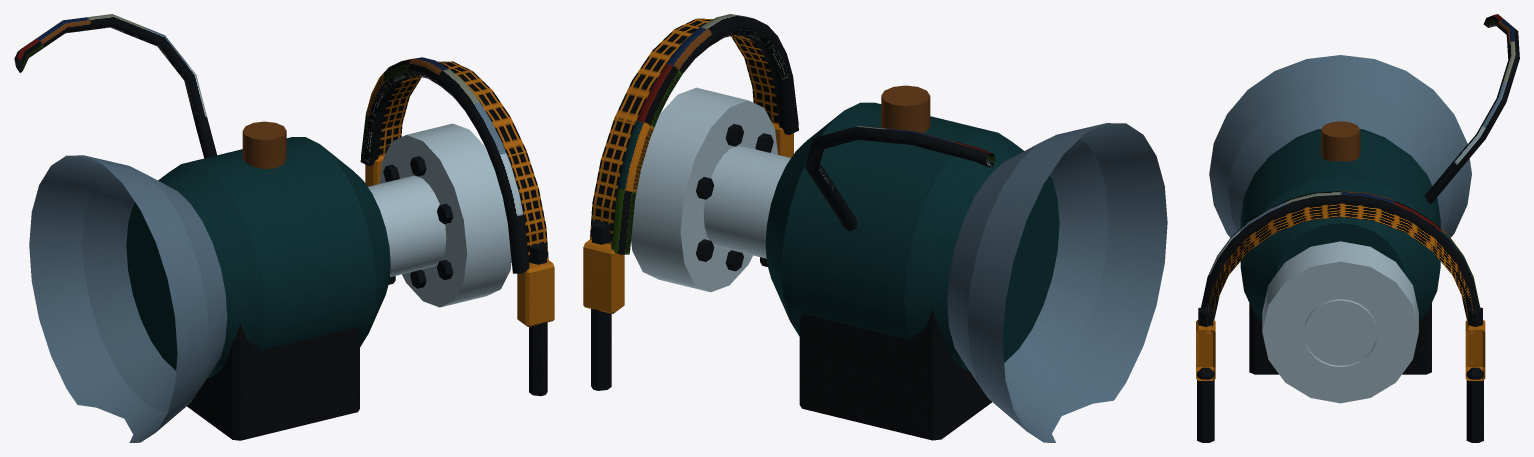
The model's file is cell_26.obj.
3 renders of one model, left to right at view 1: azimuth 30°, elevation 25°; view 2: azimuth 150°, elevation 25°; view 3: azimuth 270°, elevation 25°, orthographic. The views are drawn at different scales.
Visible parts, largest first — view 1: cell_26; view 2: cell_26; view 3: cell_26.
Part boxes in pixels (x1,y1,x2,y2): cell_26: (14, 14, 554, 442); cell_26: (583, 14, 1167, 442); cell_26: (1196, 14, 1519, 442).
Bounding box in the file's own units: 1 × 0.8224 × 0.8566.
